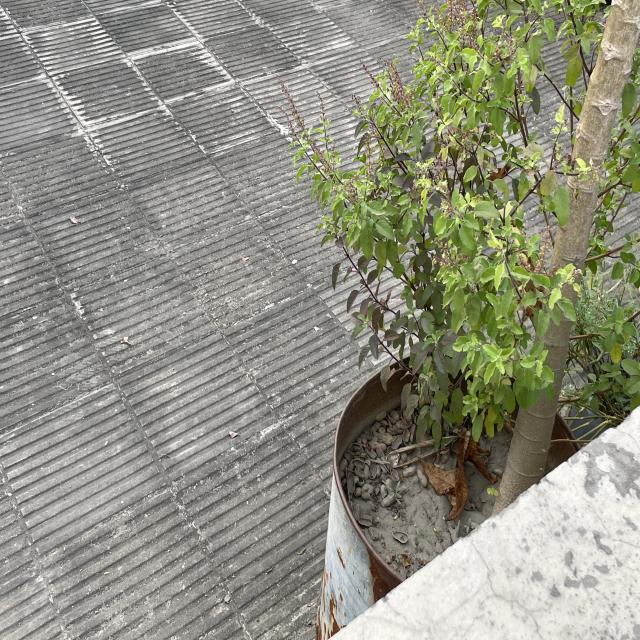Breeding Place: (319, 333, 576, 640)
